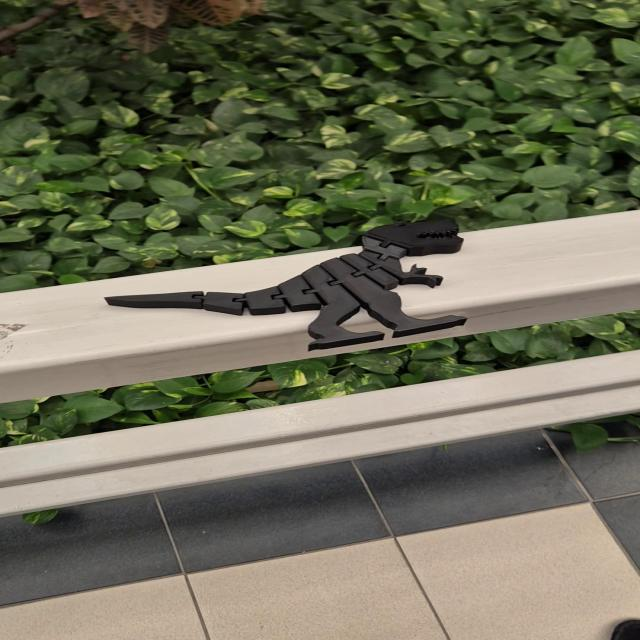dino: (102, 218, 470, 353)
